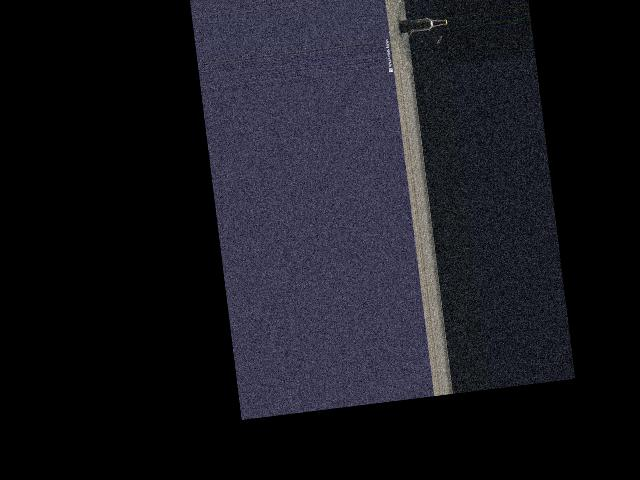beer: (398, 15, 447, 32)
